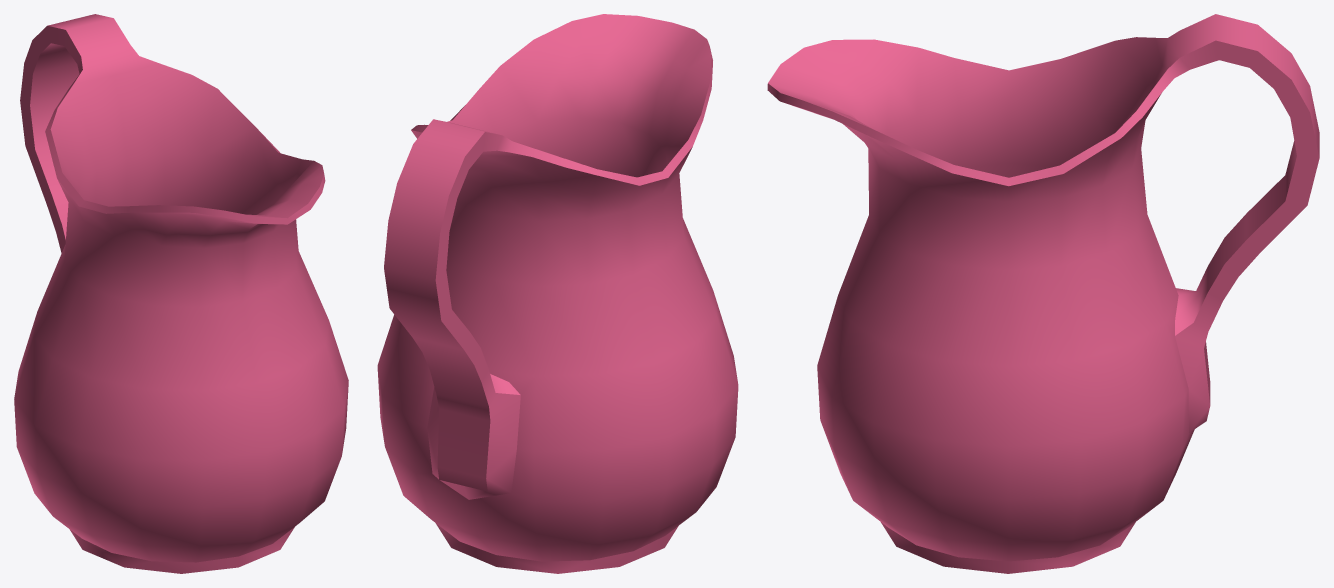
Rendered from Tableware_V2_3.fbx.
3 renders of one model, left to right at view 1: azimuth 30°, elevation 25°; view 2: azimuth 150°, elevation 25°; view 3: azimuth 270°, elevation 25°, orthographic. The views are drawn at different scales.
Parts seen in each view (by area): view 1: SM_Tableware_V2_3; view 2: SM_Tableware_V2_3; view 3: SM_Tableware_V2_3.
Part boxes in pixels (box(x1,y1,x2,y2)): SM_Tableware_V2_3: box(14, 14, 348, 573); SM_Tableware_V2_3: box(377, 14, 738, 573); SM_Tableware_V2_3: box(767, 14, 1319, 573).
Size of the model in its own units: 9.84 by 13.97 by 14.21.
